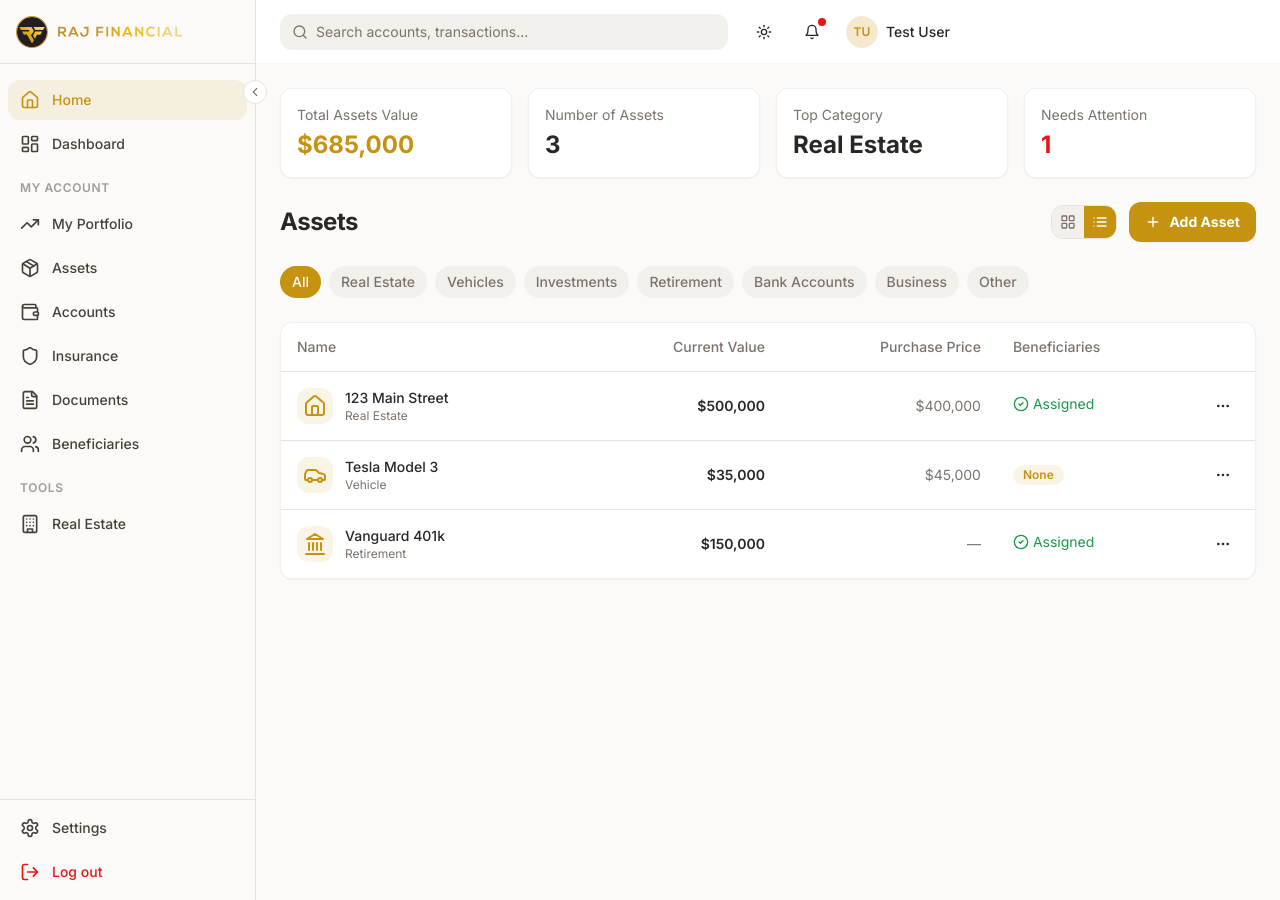
Test: Assets Page — Delete Functionality › opens delete dialog from actions menu in table view
Click the button named "More actions" in the row of "123 Main Street" at {"x": 1223, "y": 406}, box [1207, 390, 1239, 422]
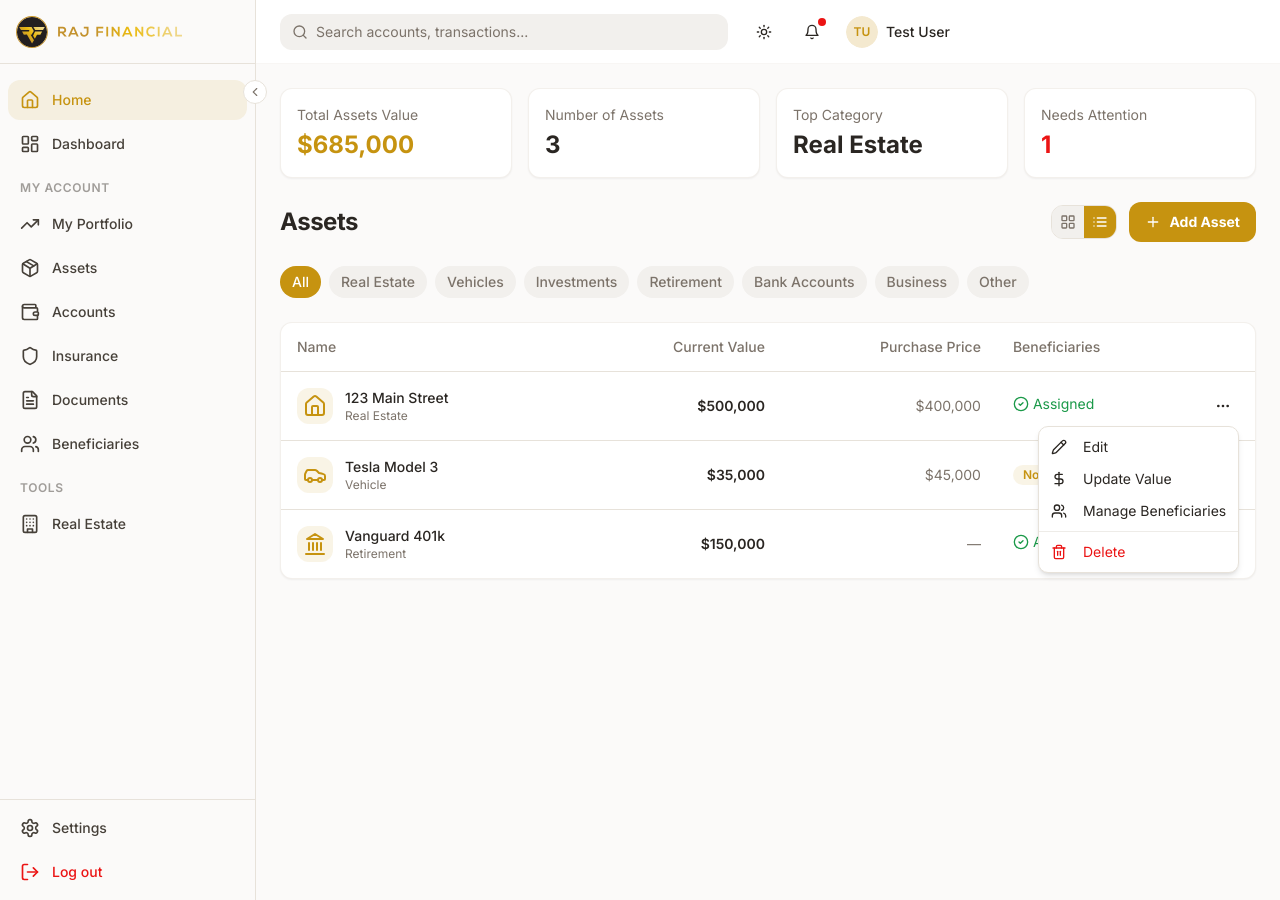
Expected: the menu item "Delete" is shown
Click the menu item "Delete" at {"x": 1088, "y": 552}, box [1051, 543, 1125, 560]
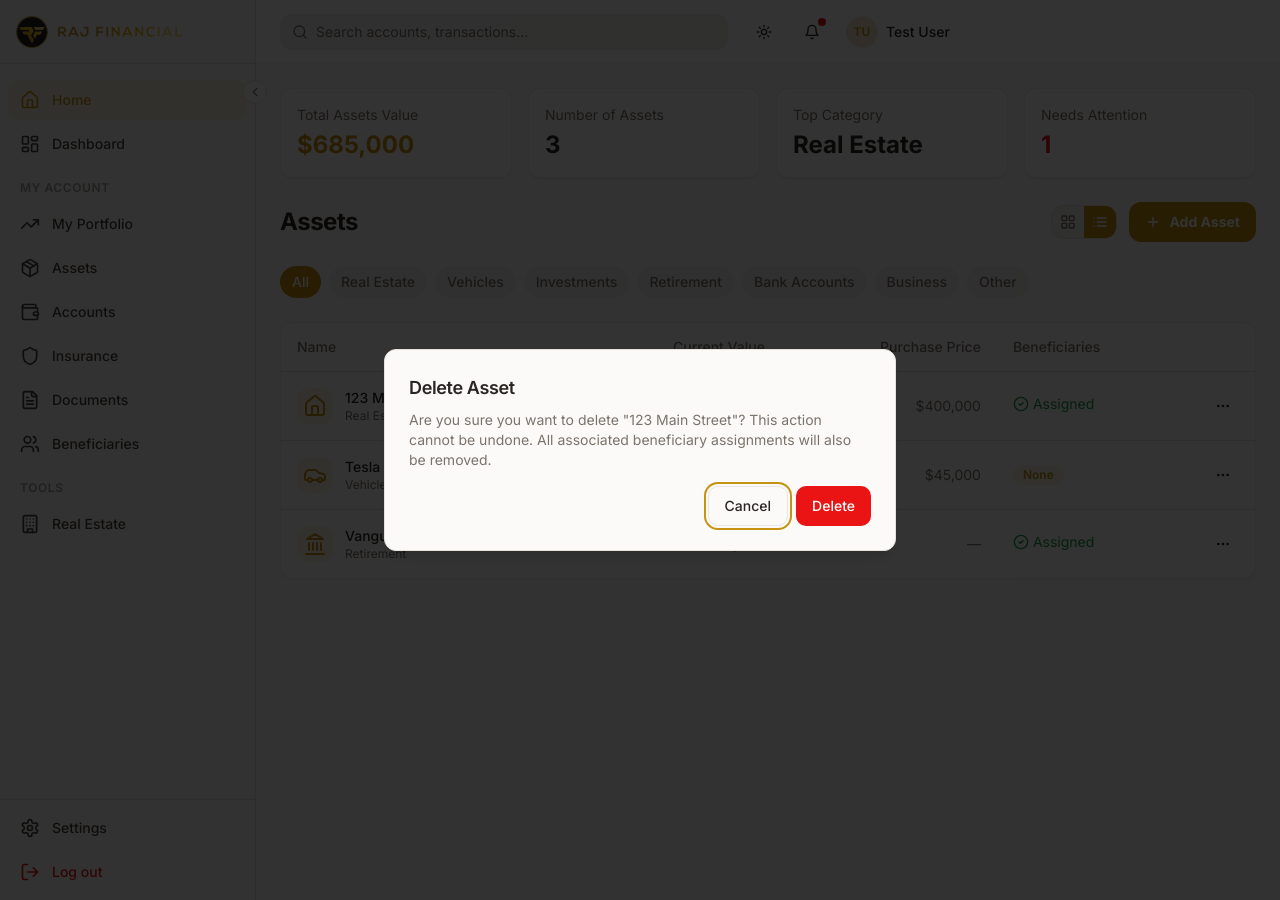
Expected: the dialog is shown, [384, 349, 896, 551]
Expected: the heading "Delete Asset" is shown, [409, 377, 515, 398]
